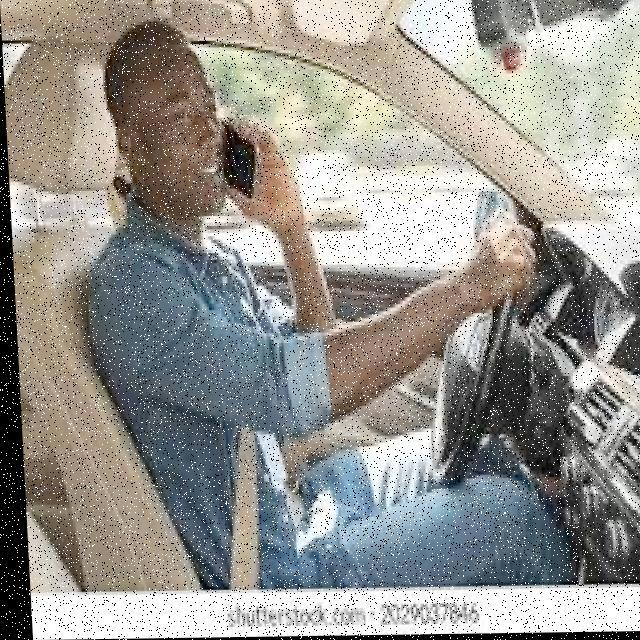seatbelt: (134, 218, 310, 591)
